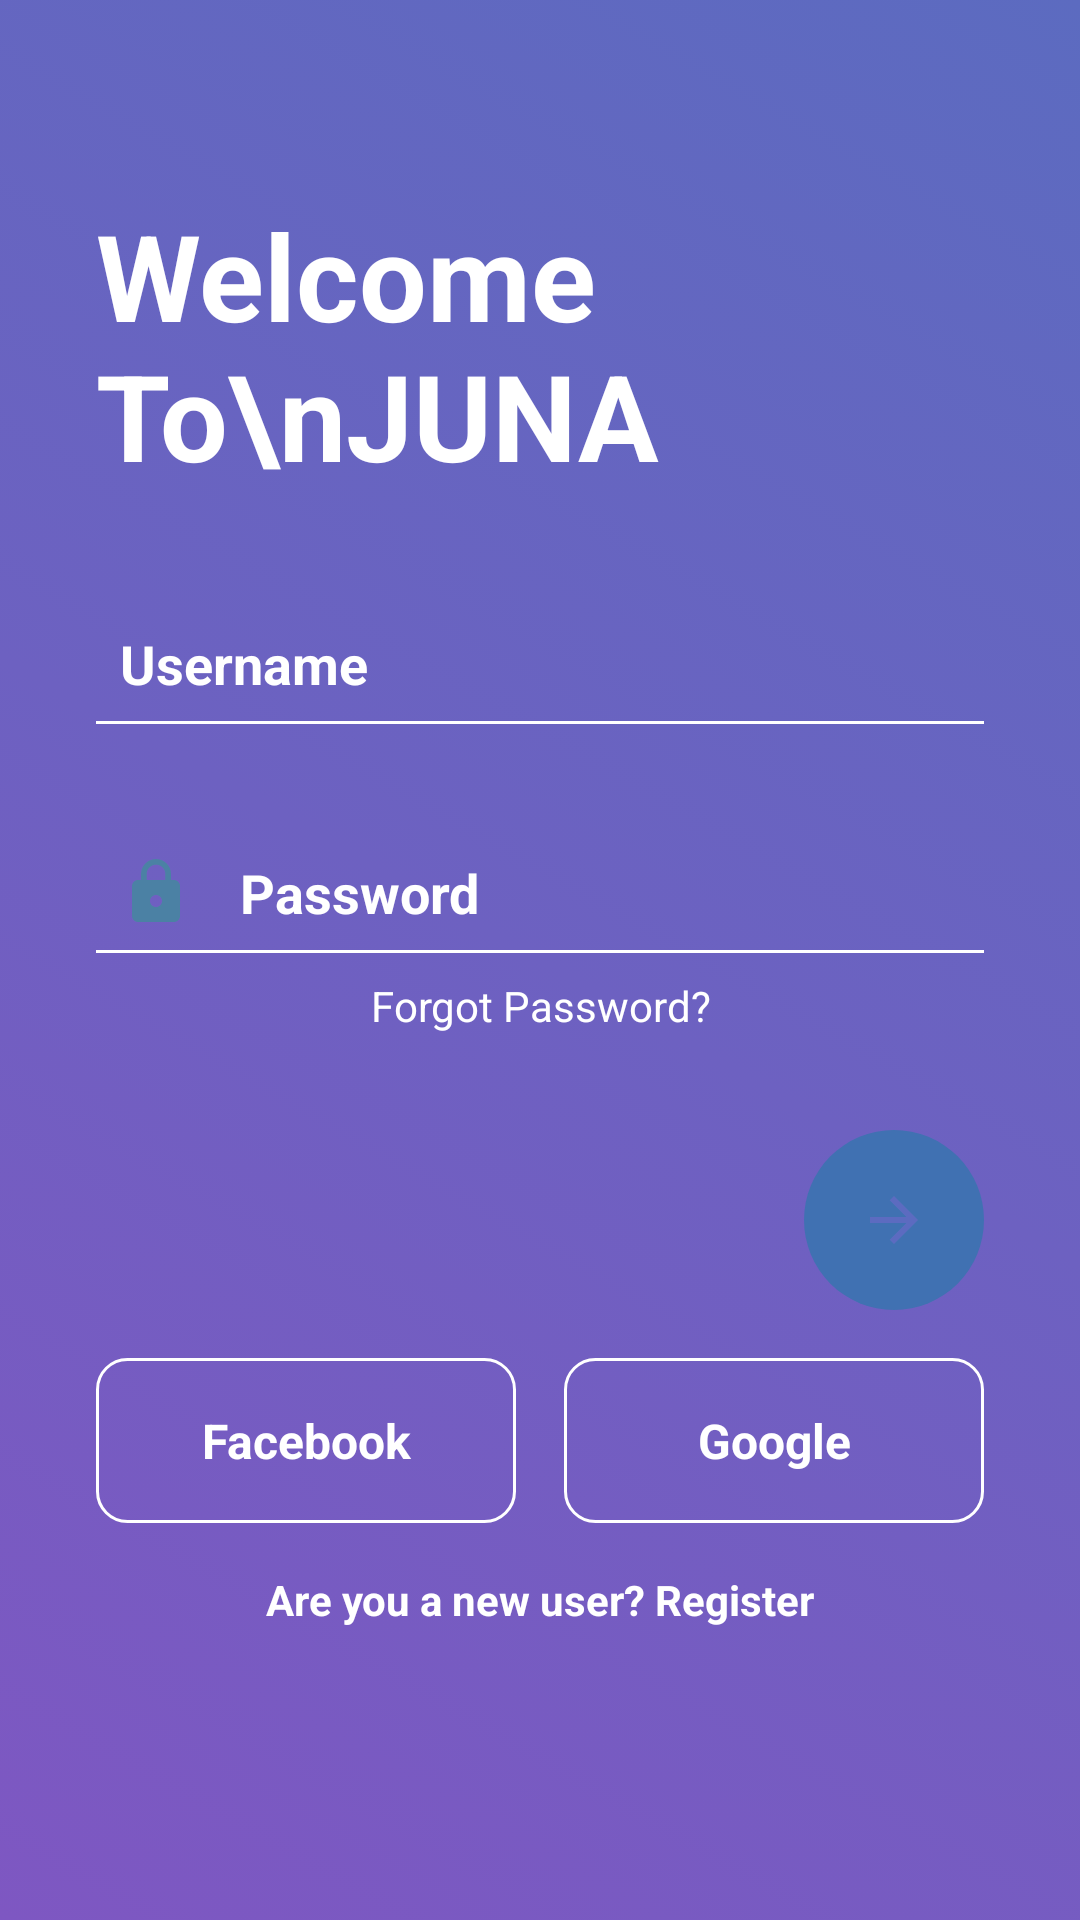

Where icons sit on this 1080×1920 app screen, as box(x1, y1, x2, y2):
arrow forward: box(870, 1197, 917, 1243)
